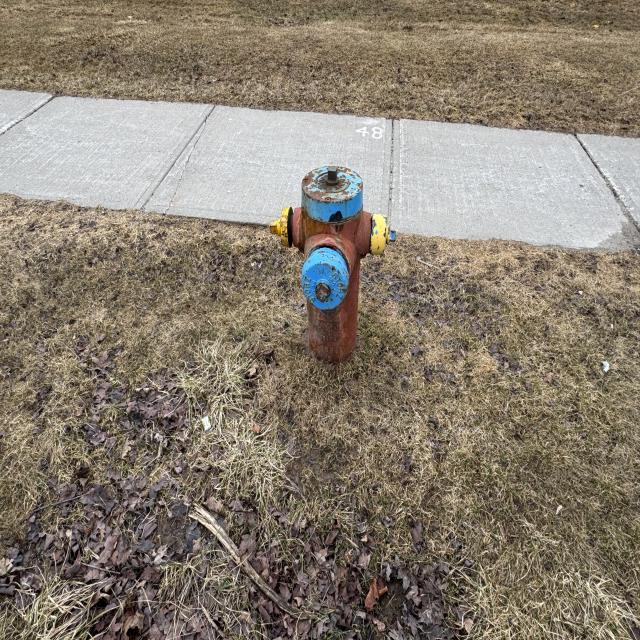Fire hydrant: (269, 165, 397, 373)
